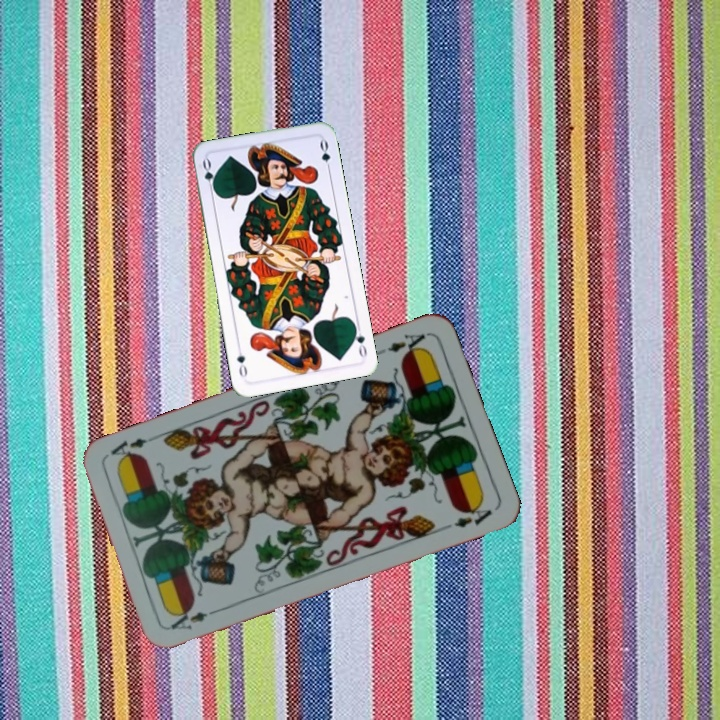EA: (373, 329, 428, 360), (166, 604, 223, 633)
GO: (198, 155, 219, 196), (349, 319, 370, 360)
